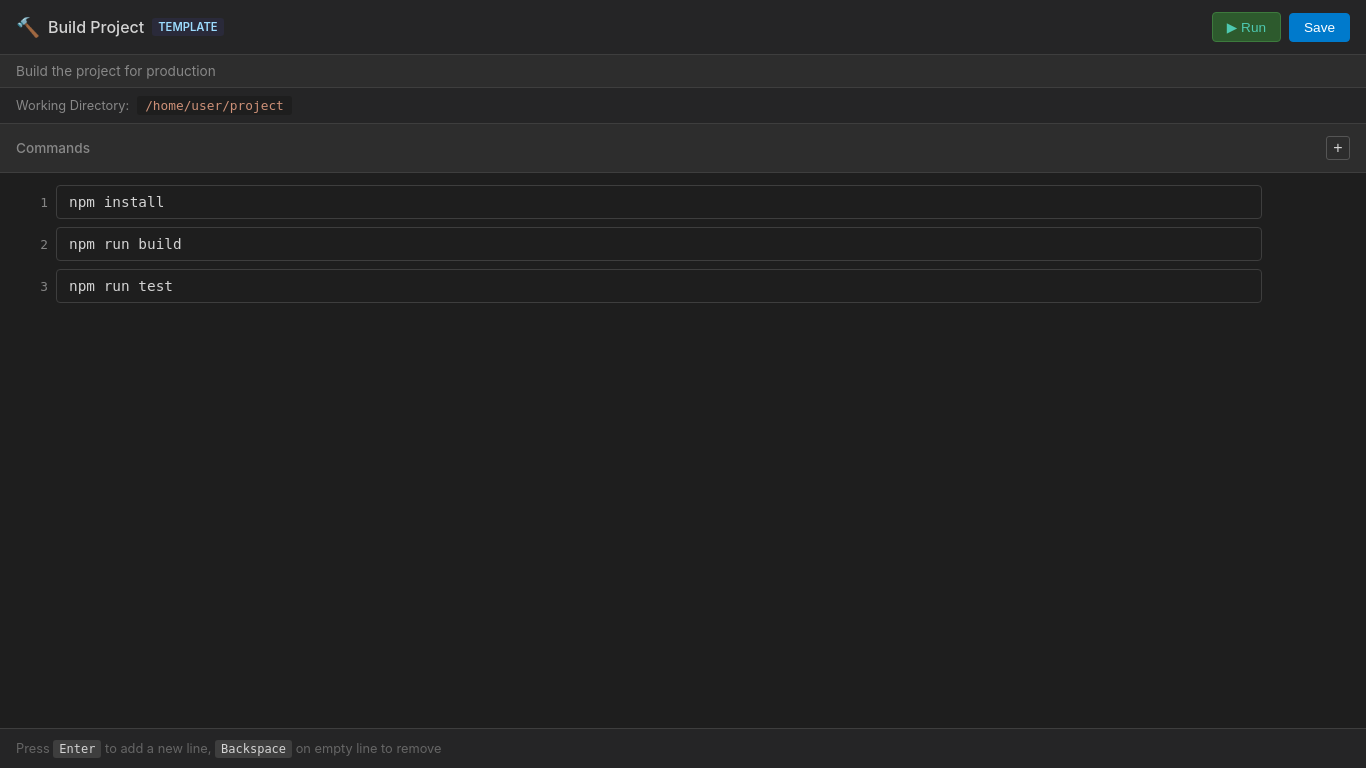
it: FlowEditor › Command Editing › should add command via + button
The width and height of the screenshot is (1366, 768).
Expected: the number of fields with placeholder "Enter command..." is 3, top-left (56, 185), bottom-right (1262, 219); top-left (56, 227), bottom-right (1262, 261); top-left (56, 269), bottom-right (1262, 303)
Click the button titled "Add Command".
click(1338, 148)  # box top-left (1326, 136), bottom-right (1350, 160)
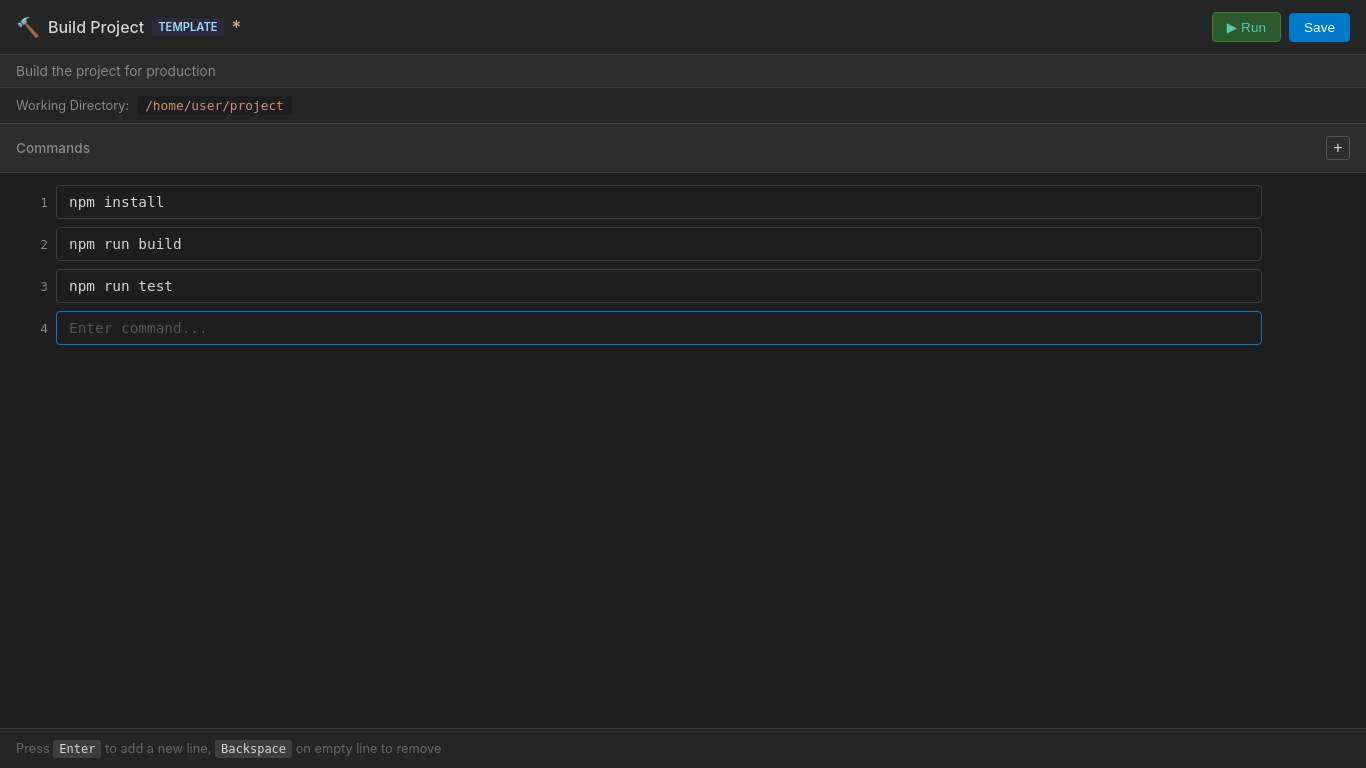
Expected: the number of fields with placeholder "Enter command..." is 4, top-left (56, 185), bottom-right (1262, 219); top-left (56, 227), bottom-right (1262, 261); top-left (56, 269), bottom-right (1262, 303); top-left (56, 311), bottom-right (1262, 345)
